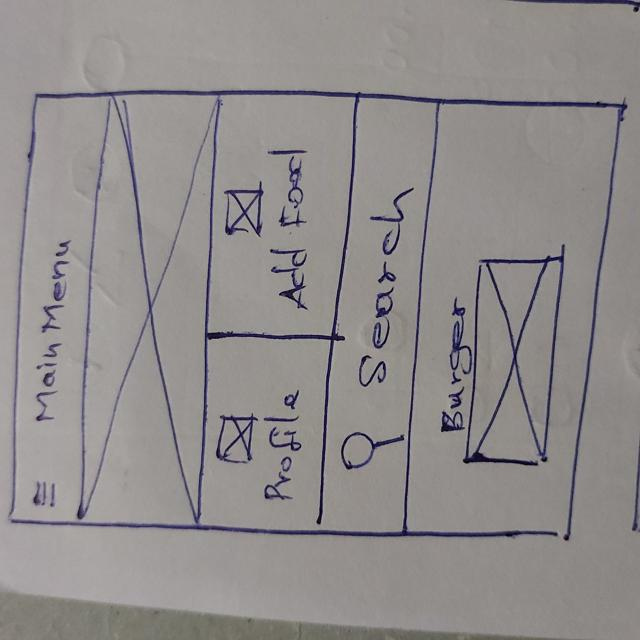AppBar: (9, 87, 91, 527)
DrawerToggleButton: (32, 482, 61, 509)
EditText: (339, 97, 413, 524)
Icon: (335, 426, 404, 481)
Image: (90, 94, 205, 526), (471, 255, 551, 465), (214, 412, 256, 465), (222, 186, 264, 237)
Layout: (213, 93, 333, 337), (204, 336, 318, 531)
MainLayout: (9, 90, 625, 543)
TextView: (34, 235, 71, 423), (272, 149, 311, 316), (266, 389, 299, 501), (441, 300, 468, 434)
